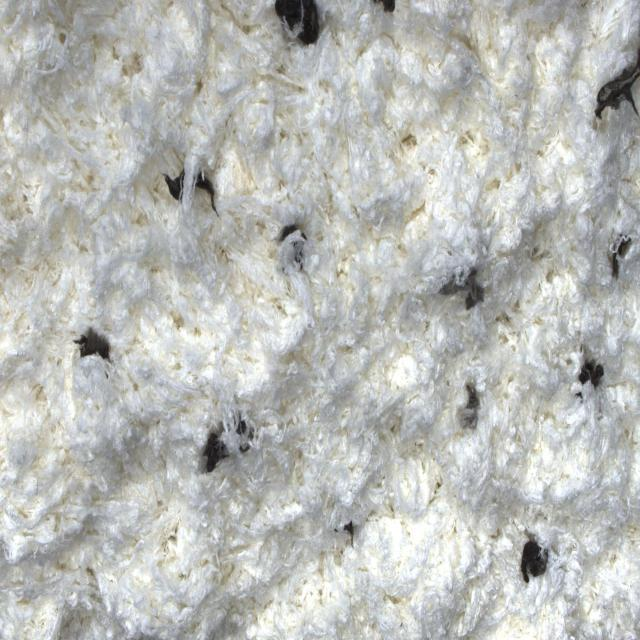dust: (270, 189, 319, 301), (562, 324, 613, 430), (595, 214, 639, 294), (593, 57, 639, 132), (156, 145, 196, 225), (197, 406, 234, 483), (71, 314, 117, 375), (437, 265, 488, 319), (273, 0, 329, 49), (516, 533, 555, 600), (193, 161, 225, 226), (455, 374, 487, 437), (337, 508, 363, 557), (236, 406, 252, 462), (369, 0, 399, 16)
